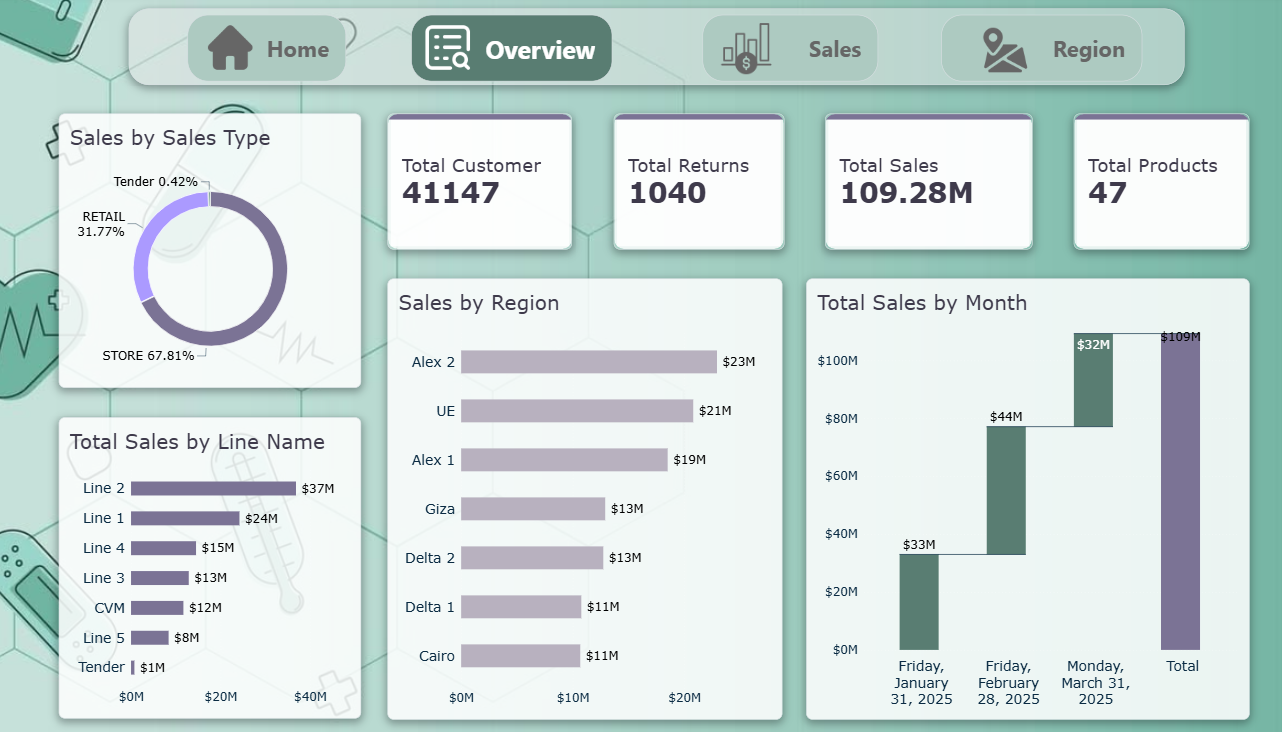

Layout of this report page (visuals, bound fields, positions):
{"tool":"powerbi","page":{"name":"Overview","canvas":[1920,1080],"ordinal":1},"visuals":[{"type":"cardVisual","fields":{"Data":["Count(Sales.EGPI Product Name)"]},"box":[1567.7,171.3,255.1,197.4],"z":0},{"type":"shape","box":[193.5,18.5,1533.5,111.1],"z":1000},{"type":"shape","box":[279.9,26.8,230.5,96.7],"z":2000},{"type":"shape","box":[603.8,26.8,292.3,96.7],"z":3000},{"type":"shape","box":[1027.1,26.8,255.2,96.7],"z":4000},{"type":"shape","box":[1375,26.8,292.3,96.7],"z":5000},{"type":"image","box":[1412,30.9,109.1,94.7],"z":6000},{"type":"image","box":[1027.1,22.6,127.6,109.1],"z":7000},{"type":"image","box":[603.1,26.8,109.1,94.7],"z":8000},{"type":"image","box":[286.1,26.8,109.1,94.7],"z":9000},{"type":"cardVisual","fields":{"Data":["Table of Measures.Total Sales"]},"box":[1206,171.3,301.5,197.4],"z":10000},{"type":"cardVisual","fields":{"Data":["Table of Measures.Total Returns"]},"box":[898.1,171.3,247.6,197.4],"z":11000},{"type":"cardVisual","fields":{"Data":["Count(Sales.CUSTOMER NAME)"]},"box":[569.8,171.3,268.1,197.4],"z":13000},{"type":"waterfallChart","fields":{"Category":["Sales.Month"],"Y":["Table of Measures.Total Sales"]},"box":[1178.6,409.6,644.2,640.5],"z":14000},{"type":"clusteredBarChart","title":"Sales by Region ","fields":{"Category":["Sales.REGION"],"Y":["Table of Measures.Total Sales"]},"box":[569.8,409.6,573.5,640.5],"z":15000},{"type":"barChart","fields":{"Category":["Sales.Line Name"],"Y":["Table of Measures.Total Sales"]},"box":[93.1,612.6,439.4,437.6],"z":16000},{"type":"donutChart","title":"Sales by Sales Type","fields":{"Category":["Sales.SALES TYPE"],"Y":["Table of Measures.Total Sales"]},"box":[93.1,171.3,439.4,398.5],"z":17000}]}

Visuals, with their boxes in screenshot pixels (x1, y1, x2, y2), scaled from the page's 1920x1080 canvas onto the 1282x732 screenshot:
cardVisual - Count(Sales.EGPI Product Name): pyautogui.locateOnScreen(1047, 116, 1217, 250)
shape: pyautogui.locateOnScreen(129, 13, 1153, 88)
shape: pyautogui.locateOnScreen(187, 18, 341, 84)
shape: pyautogui.locateOnScreen(403, 18, 598, 84)
shape: pyautogui.locateOnScreen(686, 18, 856, 84)
shape: pyautogui.locateOnScreen(918, 18, 1113, 84)
image: pyautogui.locateOnScreen(943, 21, 1016, 85)
image: pyautogui.locateOnScreen(686, 15, 771, 89)
image: pyautogui.locateOnScreen(403, 18, 476, 82)
image: pyautogui.locateOnScreen(191, 18, 264, 82)
cardVisual - Table of Measures.Total Sales: pyautogui.locateOnScreen(805, 116, 1007, 250)
cardVisual - Table of Measures.Total Returns: pyautogui.locateOnScreen(600, 116, 765, 250)
cardVisual - Count(Sales.CUSTOMER NAME): pyautogui.locateOnScreen(380, 116, 559, 250)
waterfallChart - Sales.Month x Table of Measures.Total Sales: pyautogui.locateOnScreen(787, 278, 1217, 712)
"Sales by Region " clusteredBarChart: pyautogui.locateOnScreen(380, 278, 763, 712)
barChart - Sales.Line Name x Table of Measures.Total Sales: pyautogui.locateOnScreen(62, 415, 356, 712)
"Sales by Sales Type" donutChart: pyautogui.locateOnScreen(62, 116, 356, 386)
